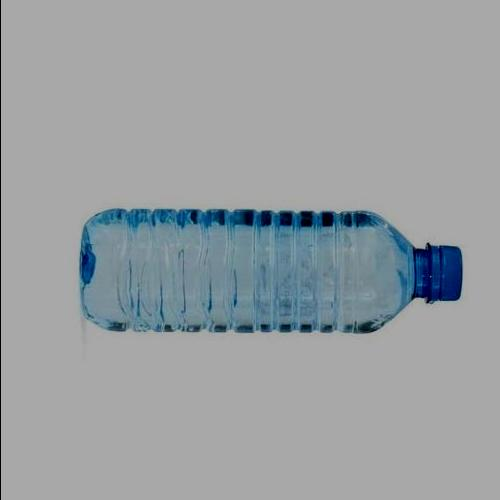bottle: (77, 208, 464, 334)
